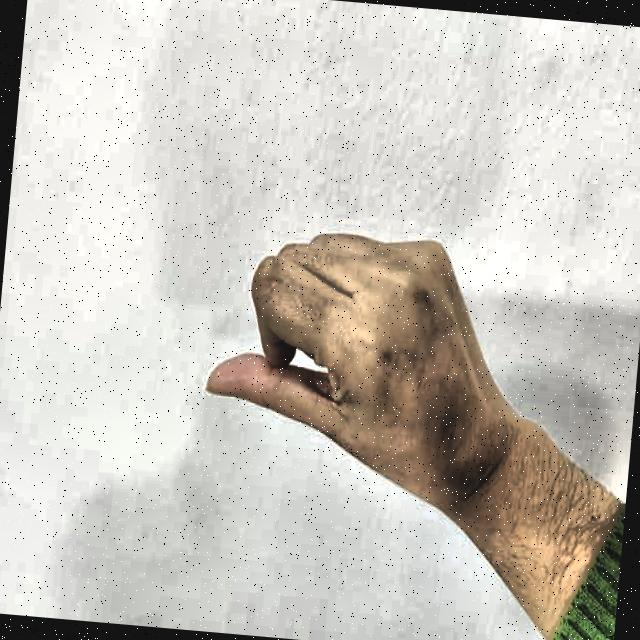Ay: (174, 181, 506, 565)
